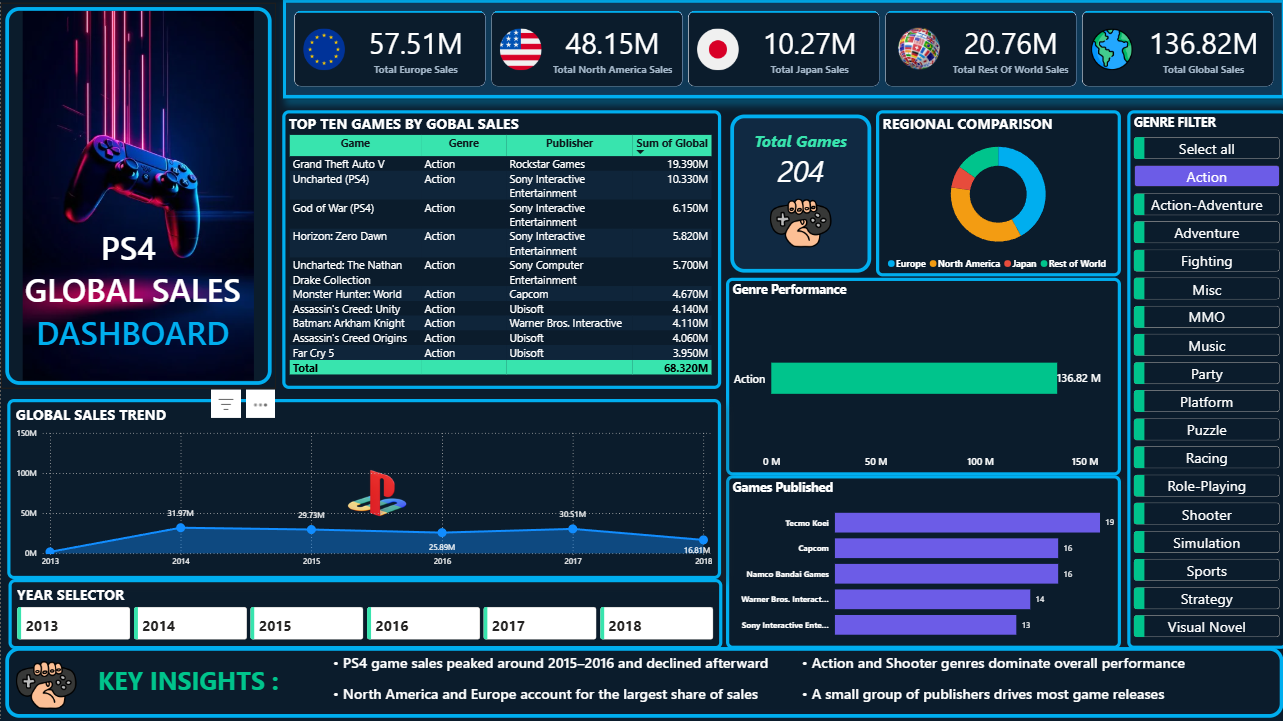

What the dashboard file says about the page in this screenshot:
{"tool":"powerbi","page":{"name":"PS4 Global Sales ","canvas":[1920,1080],"ordinal":0},"visuals":[{"type":"cardVisual","fields":{"Data":["PS4_GamesSales.Total Europe Sales","PS4_GamesSales.Total NA Sales","PS4_GamesSales.Total Japan Sales","PS4_GamesSales.Total ROW Sales","PS4_GamesSales.Total Global Sales"]},"box":[419.8,0,1500.2,149.3],"z":0},{"type":"tableEx","title":"TOP TEN GAMES BY GOBAL SALES","fields":{"Values":["PS4_GamesSales.Game","PS4_GamesSales.Genre","PS4_GamesSales.Publisher","Sum(PS4_GamesSales.Global)"]},"box":[419.8,166.1,654.9,416.1],"z":1000},{"type":"clusteredBarChart","title":"Games Published ","fields":{"Y":["CountNonNull(PS4_GamesSales.Global)"],"Category":["PS4_GamesSales.Publisher"]},"box":[1082.2,710.9,589.6,259.4],"z":2000},{"type":"donutChart","title":"REGIONAL COMPARISON","fields":{"Y":["Sum(PS4_GamesSales.Europe)","Sum(PS4_GamesSales.North America)","Sum(PS4_GamesSales.Japan)","Sum(PS4_GamesSales.Rest of World)"]},"box":[1306.2,166.1,365.7,248.2],"z":3000},{"type":"listSlicer","title":"GENRE FILTER","fields":{"Values":["PS4_GamesSales.Genre"]},"box":[1681.2,166.1,238.8,804.2],"z":4000},{"type":"clusteredBarChart","title":"Genre Performance","fields":{"Category":["PS4_GamesSales.Genre"],"Y":["Sum(PS4_GamesSales.Global)"]},"box":[1082.2,416.1,589.6,294.8],"z":5000},{"type":"cardVisual","fields":{"Data":["PS4_GamesSales.Total Games"]},"box":[1082.2,166.1,223.9,248.2],"z":6000},{"type":"lineChart","title":"GLOBAL SALES TREND","fields":{"Category":["PS4_GamesSales.Year"],"Y":["Sum(PS4_GamesSales.Global)"]},"box":[9.3,597.1,1065.5,268.7],"z":7000},{"type":"advancedSlicerVisual","title":"YEAR SELECTOR","fields":{"Values":["PS4_GamesSales.Year"]},"box":[11.2,865.8,1065.5,104.5],"z":8000},{"type":"textbox","box":[490.7,970.3,700,90],"z":9000,"group":"g2"},{"type":"textbox","box":[1190.5,970.3,700,90],"z":10000,"group":"g2"},{"type":"textbox","box":[139,987.4,280.1,74.6],"z":11000,"group":"g2"},{"type":"group","id":"g1","title":"PS 4 GOBAL SALES","box":[0,5.6,410.5,576.6],"z":12000},{"type":"cardVisual","fields":{"Data":["PS4_GamesSales.Key Insight"]},"box":[11.2,969.3,408.6,110.1],"z":13000,"group":"g2"},{"type":"cardVisual","fields":{"Data":["PS4_GamesSales.Key Insight"]},"box":[0,960.7,1920.4,118.9],"z":14000,"group":"g2"},{"type":"group","id":"g2","title":"KEY INSIGHTS","box":[0,960.7,1920.4,118.9],"z":14001},{"type":"cardVisual","fields":{"Data":["PS4_GamesSales.Key Insight"]},"box":[0,5.6,410.5,576.6],"z":14500,"group":"g1"},{"type":"textbox","box":[9.3,332.1,375.1,207.1],"z":15000,"group":"g1"}]}

Visuals, with their boxes in screenshot pixels (x1, y1, x2, y2), scaled from the page's 1920x1080 canvas onto the 1283x721 screenshot:
cardVisual - PS4_GamesSales.Total Europe Sales x PS4_GamesSales.Total NA Sales: rect(281, 0, 1282, 100)
"TOP TEN GAMES BY GOBAL SALES" tableEx: rect(281, 111, 718, 389)
"Games Published " clusteredBarChart: rect(723, 475, 1117, 648)
"REGIONAL COMPARISON" donutChart: rect(873, 111, 1117, 277)
"GENRE FILTER" listSlicer: rect(1123, 111, 1282, 648)
"Genre Performance" clusteredBarChart: rect(723, 278, 1117, 475)
cardVisual - PS4_GamesSales.Total Games: rect(723, 111, 873, 277)
"GLOBAL SALES TREND" lineChart: rect(6, 399, 718, 578)
"YEAR SELECTOR" advancedSlicerVisual: rect(7, 578, 719, 648)
textbox: rect(328, 648, 796, 708)
textbox: rect(796, 648, 1263, 708)
textbox: rect(93, 659, 280, 709)
"PS 4 GOBAL SALES" group: rect(0, 4, 274, 389)
cardVisual - PS4_GamesSales.Key Insight: rect(7, 647, 281, 720)
cardVisual - PS4_GamesSales.Key Insight: rect(0, 641, 1282, 720)
"KEY INSIGHTS" group: rect(0, 641, 1282, 720)
cardVisual - PS4_GamesSales.Key Insight: rect(0, 4, 274, 389)
textbox: rect(6, 222, 257, 360)
